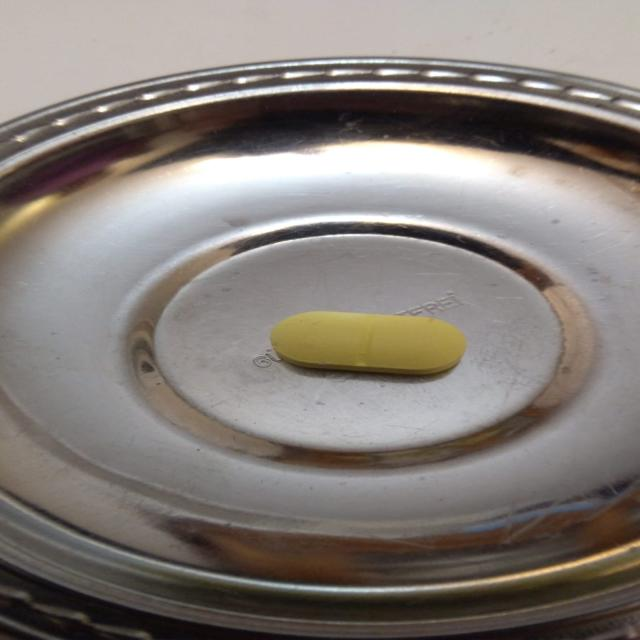pills: (259, 301, 478, 388)
